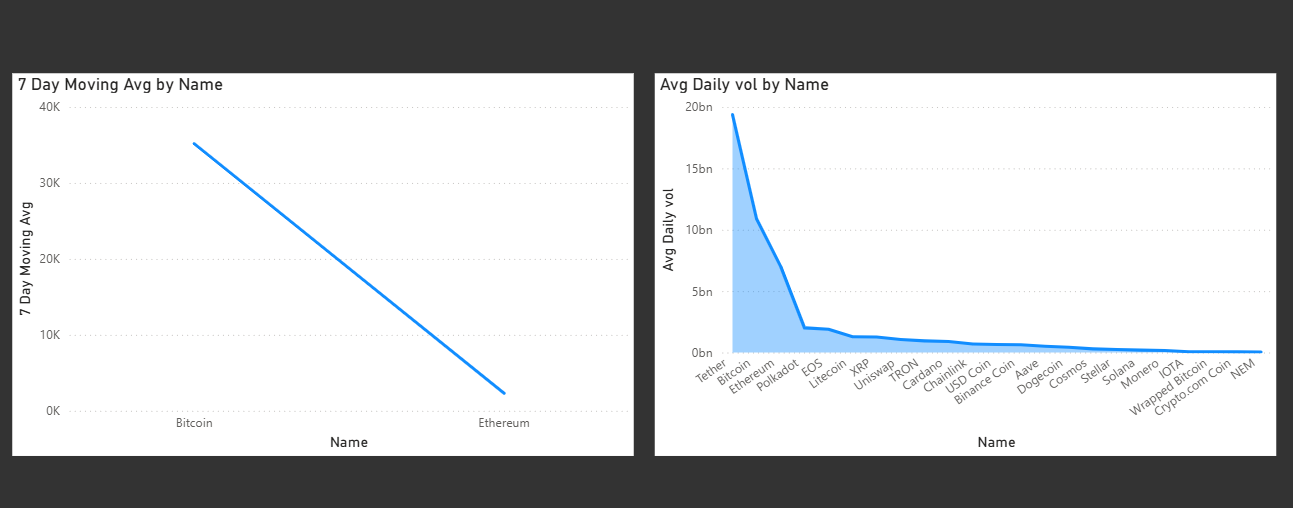

The page's visual inventory and layout, read from the dashboard file:
{"tool":"powerbi","page":{"name":"Forecasting","canvas":[1280,720],"ordinal":3},"visuals":[{"type":"lineChart","fields":{"Y":["Cryptocurrency.7 Day Moving Avg"],"Category":["Cryptocurrency.Name"]},"box":[20.8,172.4,607.7,374.2],"z":0},{"type":"areaChart","fields":{"Category":["Cryptocurrency.Name"],"Y":["Cryptocurrency.Avg Daily vol"]},"box":[649.3,172.4,607.7,374.2],"z":1}]}

Visuals, with their boxes on the page's 1280x720 design canvas (x1, y1, x2, y2). These are canvas units, not pixel positions in the 1293x508 screenshot, which may show the page scaled, cropped or inside an application window:
lineChart - Cryptocurrency.7 Day Moving Avg x Cryptocurrency.Name: detection(21, 172, 628, 547)
areaChart - Cryptocurrency.Name x Cryptocurrency.Avg Daily vol: detection(649, 172, 1257, 547)
